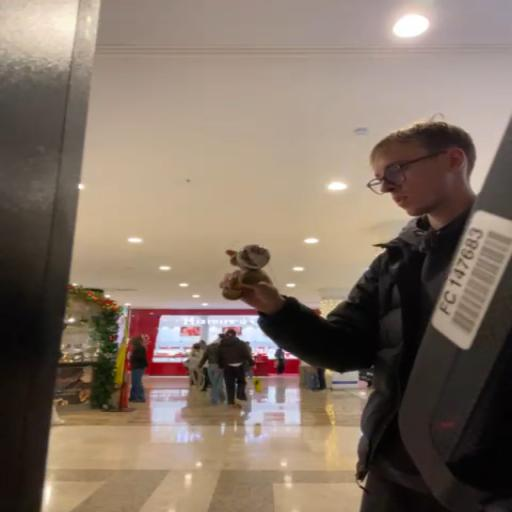kendama_ball: (236, 244, 271, 270)
